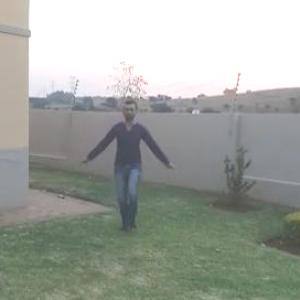land: (77, 103, 179, 241)
